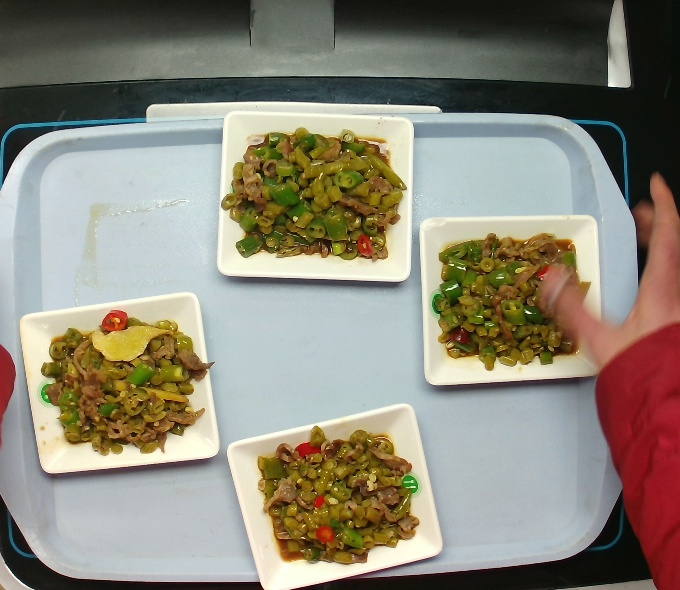wcq-SuanDouJiaoChaoJiZhen: (34, 310, 221, 454), (219, 127, 406, 271), (424, 229, 595, 370), (257, 427, 428, 568)
